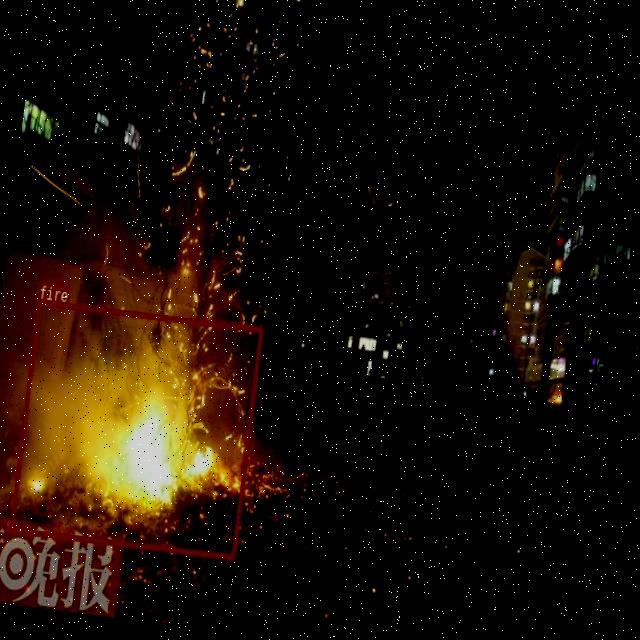fire: (8, 298, 263, 558)
